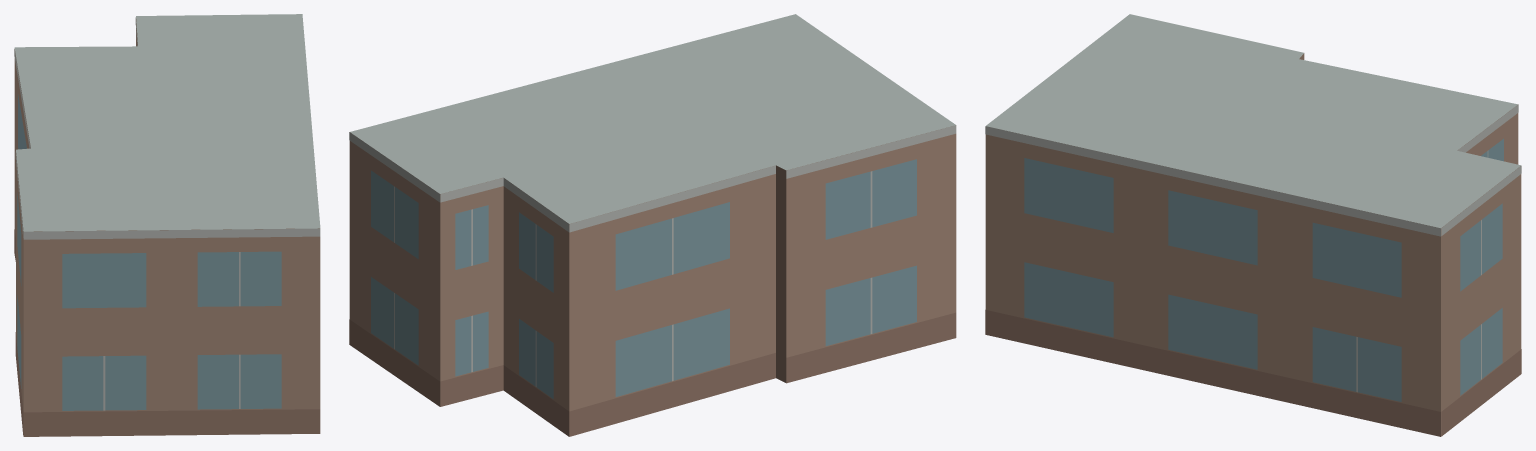
Rendered from survey-upis-32656150.glb.
The picture shows the model from 3 angles, left to right: view 1: azimuth 30°, elevation 25°; view 2: azimuth 150°, elevation 25°; view 3: azimuth 270°, elevation 25°; orthographic projection. The views are drawn at different scales.
Parts seen in each view (by area): view 1: survey-upis-32656150.tmp; view 2: survey-upis-32656150.tmp; view 3: survey-upis-32656150.tmp.
Part boxes in pixels (x1,y1,x2,y2): survey-upis-32656150.tmp: (14,14,320,436); survey-upis-32656150.tmp: (349,14,956,436); survey-upis-32656150.tmp: (985,14,1521,436).
Size of the model in its own units: 13.45 by 6.1 by 14.21.
